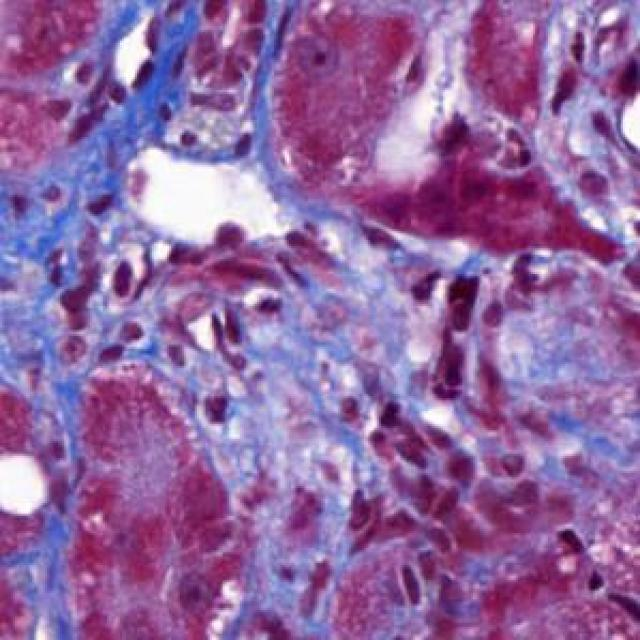inflammation: (400, 259, 492, 342), (203, 300, 261, 379), (94, 238, 156, 306)
